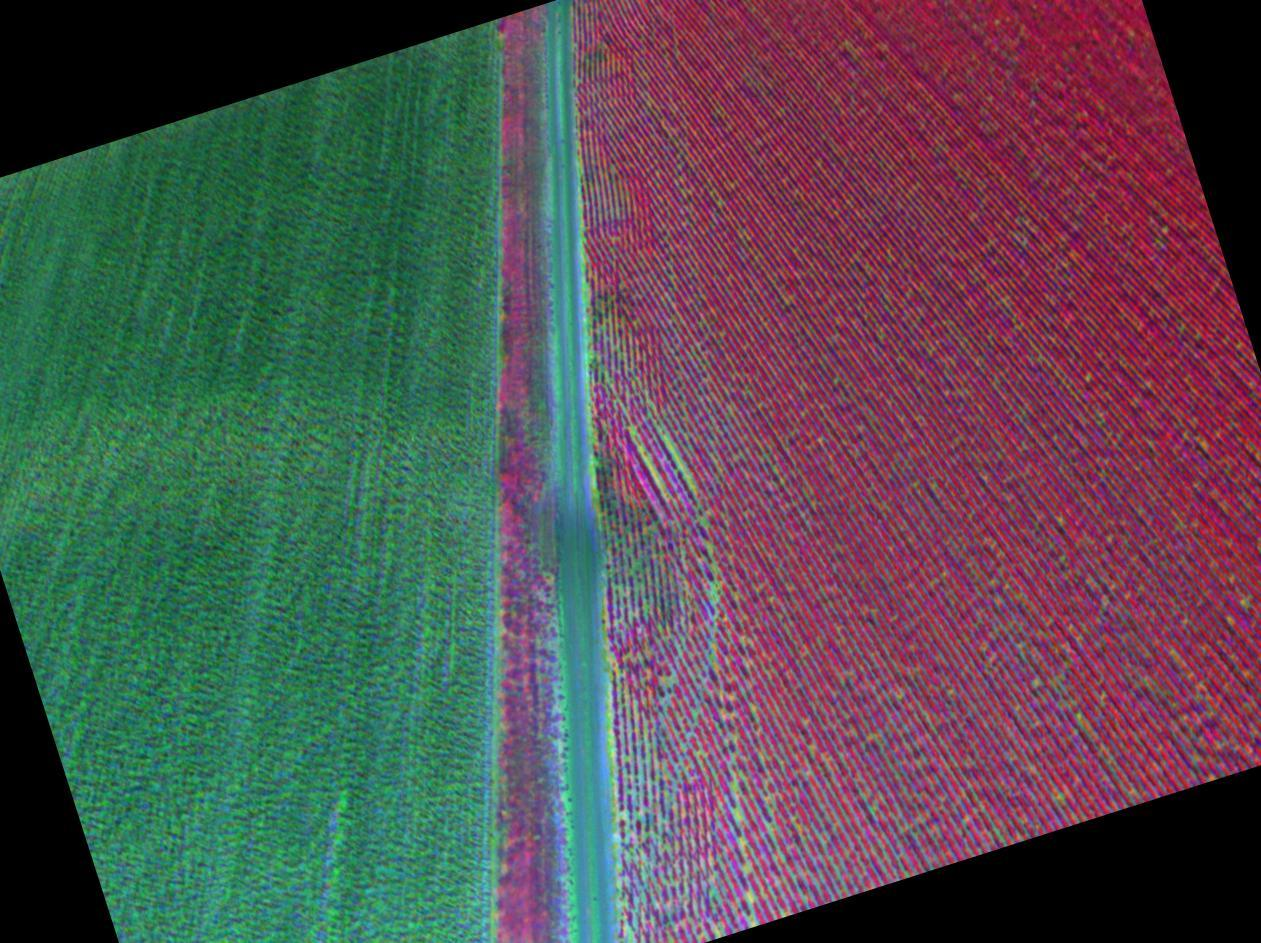dc: (664, 436, 669, 441), (680, 463, 685, 468), (666, 678, 670, 683), (734, 783, 738, 788), (647, 461, 651, 465), (737, 841, 740, 846), (710, 593, 713, 597), (750, 890, 753, 894), (747, 865, 750, 868)
